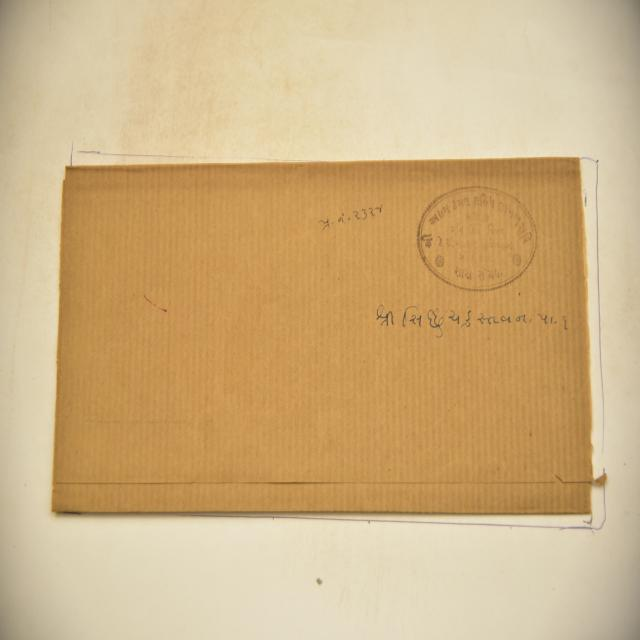text_paragraph: (52, 157, 589, 518)
